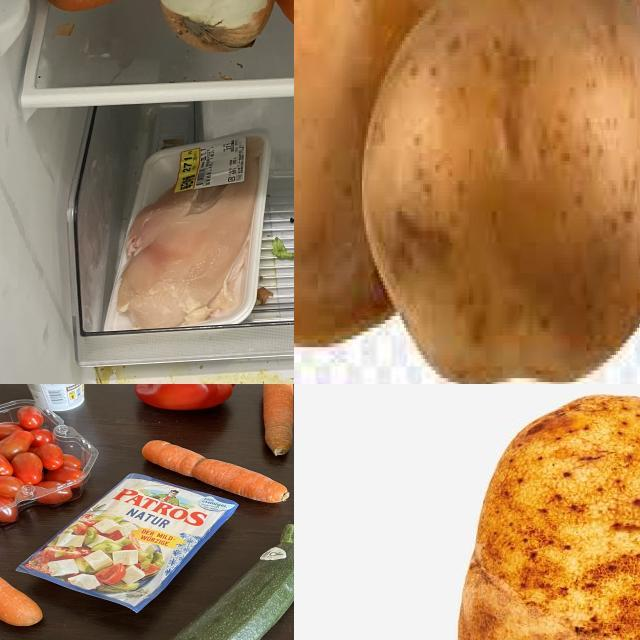bell_pepper: (125, 385, 242, 416)
carrot: (133, 435, 295, 512), (1, 536, 44, 634), (256, 385, 295, 470)
onion: (157, 1, 282, 61)
potato: (364, 1, 640, 385), (295, 1, 457, 345), (464, 1, 640, 317), (467, 396, 640, 640)
tomato: (1, 414, 54, 483)
zucchini: (136, 517, 295, 640)
